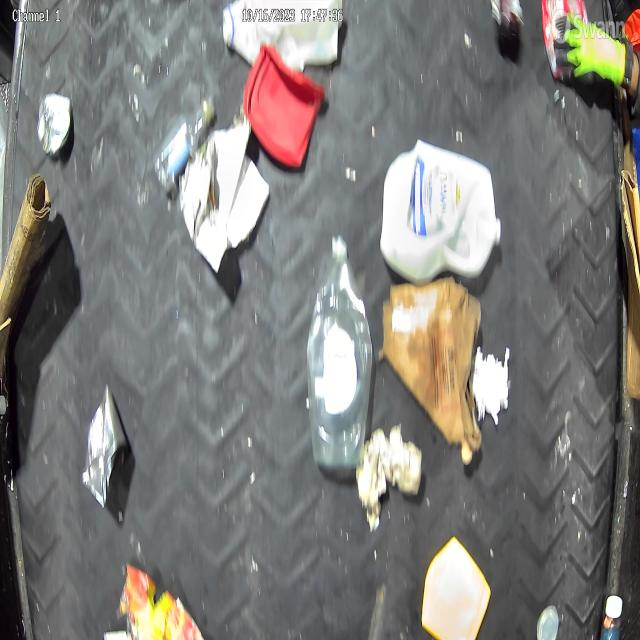can: (82, 383, 122, 502), (38, 91, 70, 158)
milk_jug: (377, 142, 502, 276), (220, 5, 344, 64)
plastic_bottle: (310, 239, 367, 466), (154, 95, 214, 200)
